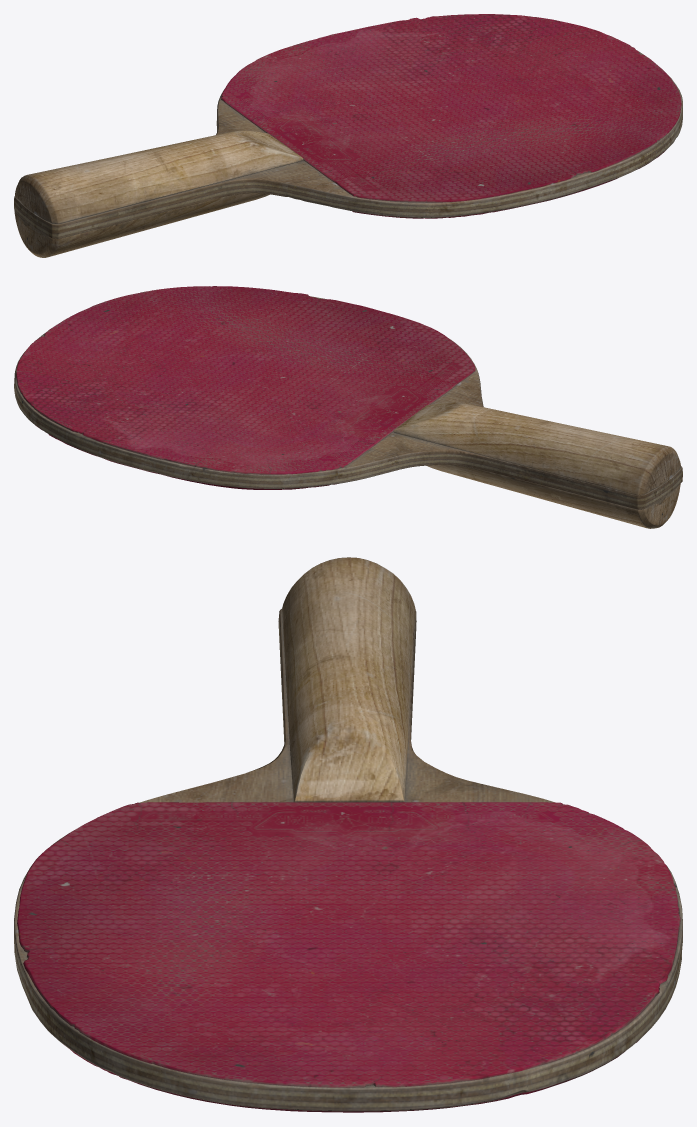
Rendered from pongPaddle.glb.
The picture shows the model from 3 angles, top to bottom: view 1: azimuth 30°, elevation 25°; view 2: azimuth 150°, elevation 25°; view 3: azimuth 270°, elevation 25°; orthographic projection. The views are drawn at different scales.
Visible parts, largest first — view 1: body_01_mesh_00; view 2: body_01_mesh_00; view 3: body_01_mesh_00.
Boxes of the visible parts, x1,y1,x2,y2 form: body_01_mesh_00: [14, 14, 682, 257]; body_01_mesh_00: [14, 286, 682, 528]; body_01_mesh_00: [14, 557, 682, 1112].
Bounding box in the file's own units: 0.2618 × 0.0311 × 0.1524.
Materials: 1 (1 with a texture image).
